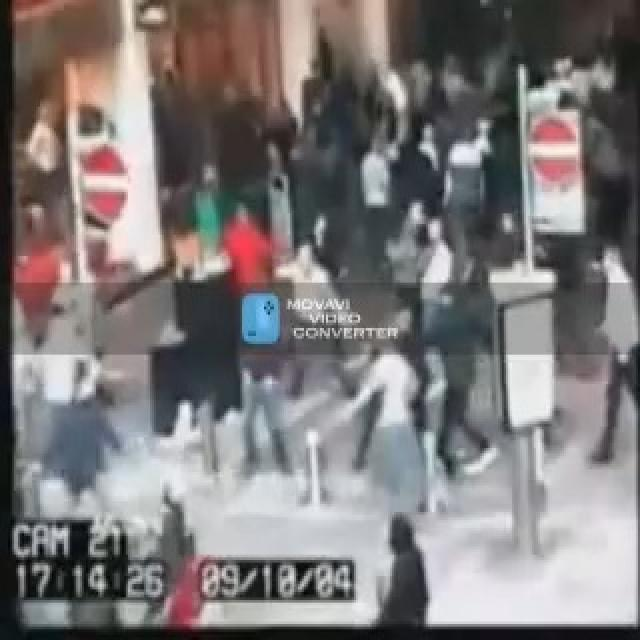non-voilence: (8, 3, 638, 629)
